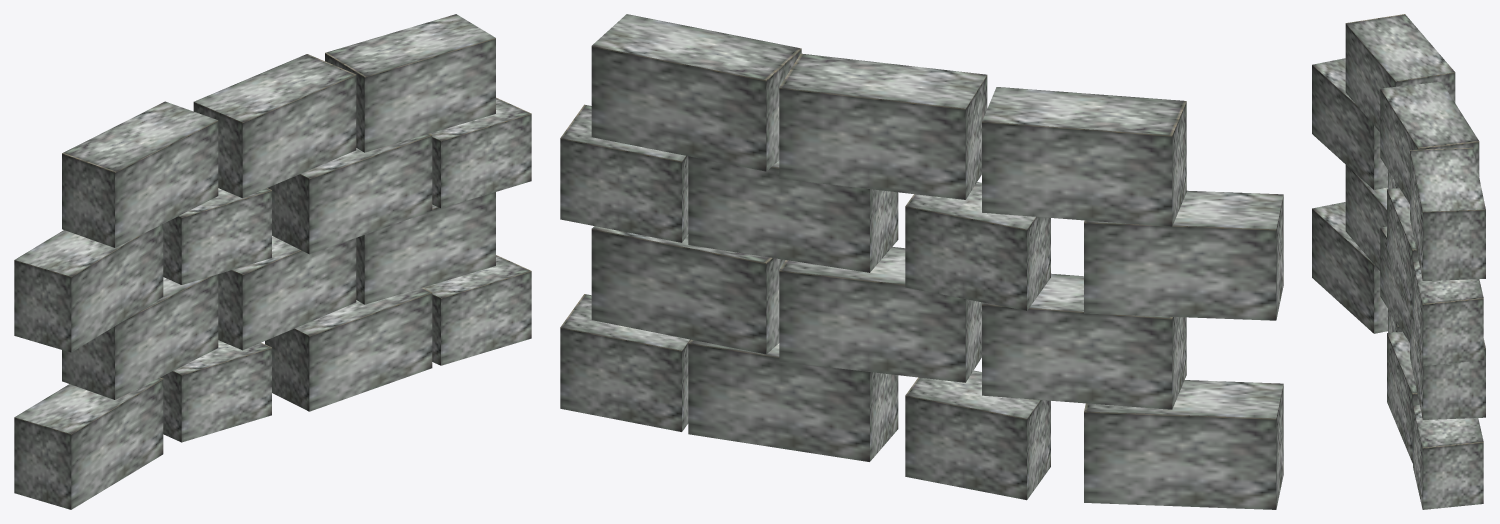
File: Brick_Pile4.dae
3 renders of one model, left to right at view 1: azimuth 30°, elevation 25°; view 2: azimuth 150°, elevation 25°; view 3: azimuth 270°, elevation 25°, orthographic. The views are drawn at different scales.
Visible parts, largest first — view 1: Object001; view 2: Object001; view 3: Object001.
Boxes of the visible parts, x1,y1,x2,y2 form: Object001: (14, 14, 531, 509); Object001: (560, 14, 1283, 509); Object001: (1312, 14, 1485, 509).
Bounding box in the file's own units: 5.38 × 2.91 × 1.62.
